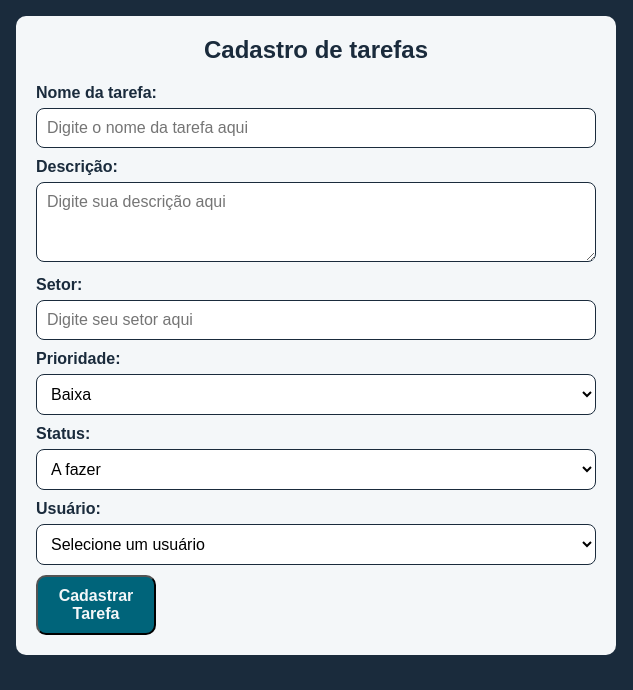
it: Teste do componente CadTarefa › Campo Usuário - Validações Específicas › Quando não selecionado, enviar mensagem de erro (Zod min)
Expected: the dropdown labelled "Usuário:" shows "Selecione um usuário", 36,524 -> 596,565
Type "Valido" into the field labelled "Nome da tarefa:".
click(316, 128); type("Valido")  # box 36,108 -> 596,148
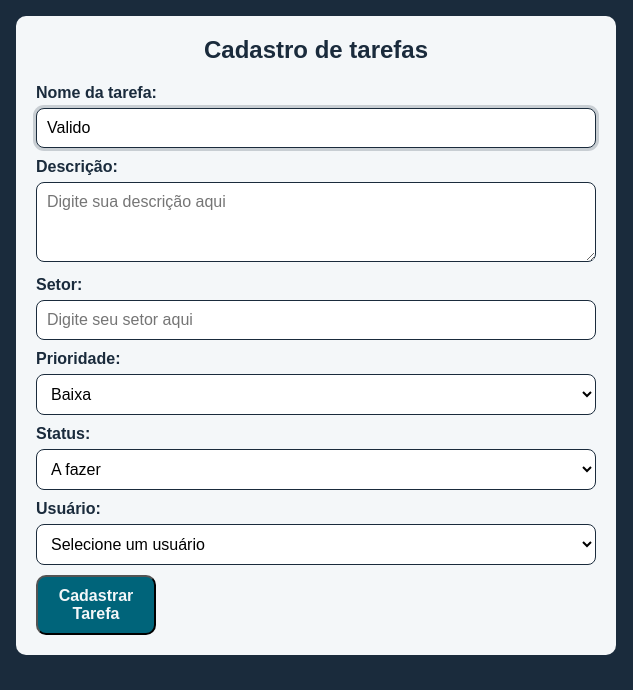
Type "Descricao com mais de 10 caracteres" into the text box labelled "Descrição:".
click(316, 222); type("Descricao com mais de 10 caracteres")  # box 36,182 -> 596,262
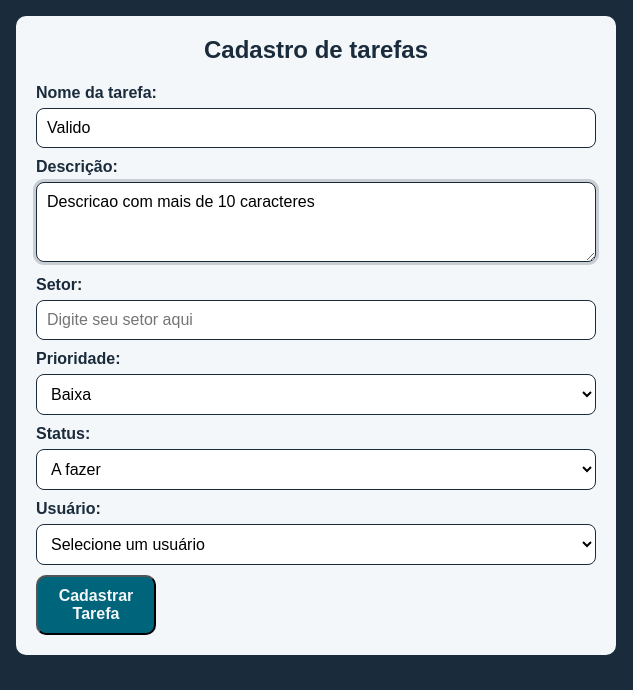
Type "Teste" into the field labelled "Setor:".
click(316, 320); type("Teste")  # box 36,300 -> 596,340
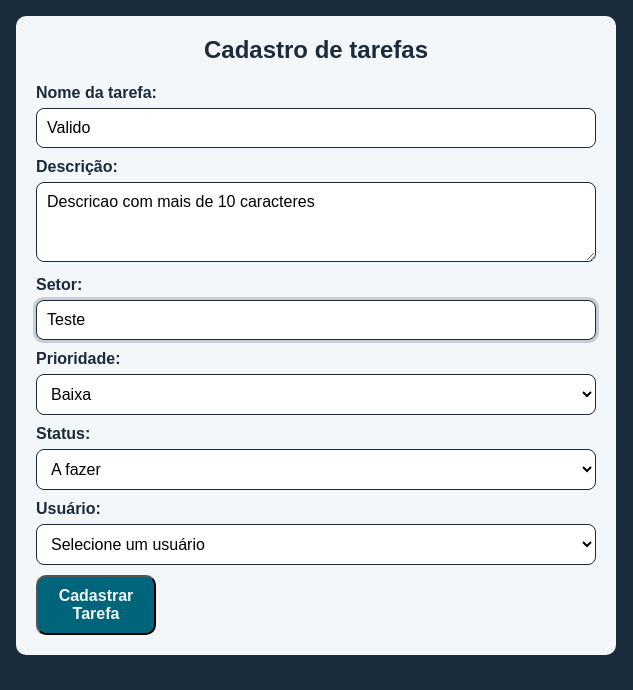
Click the button "Cadastrar Tarefa".
click(96, 605)  # box 36,575 -> 156,635
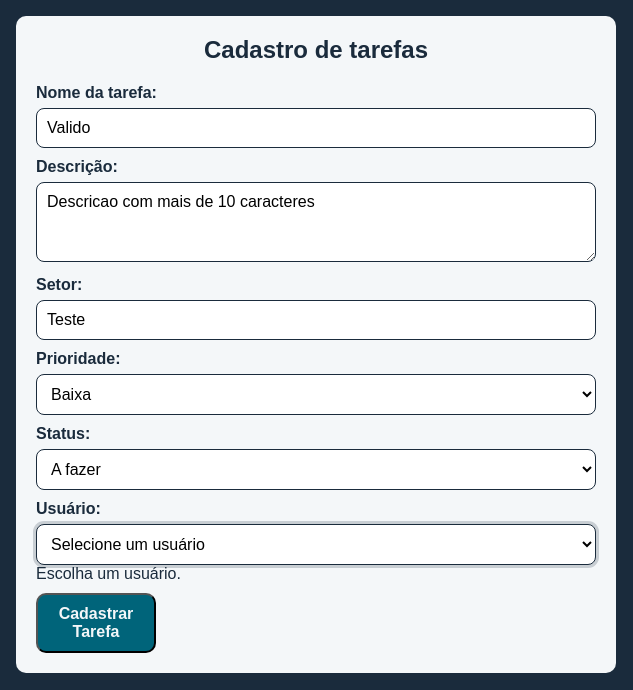
Now the text "Escolha um usuário." is shown, box 36,565 -> 181,582
